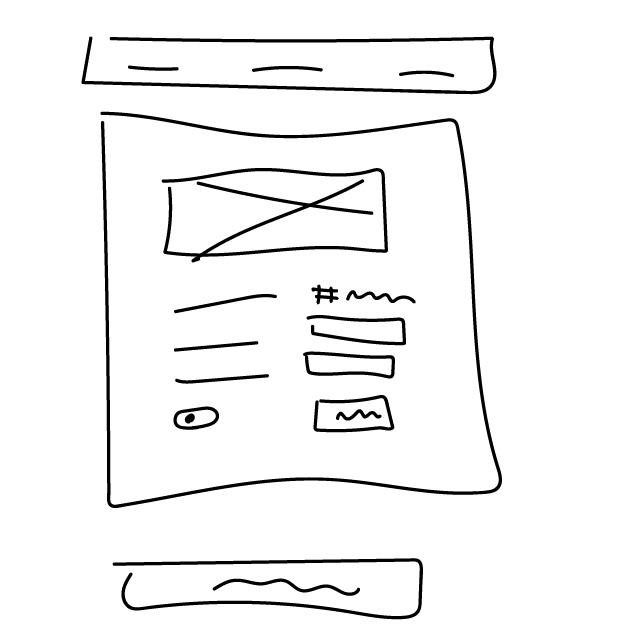buttonrotation: (311, 393, 401, 438)
checkboxrotation: (172, 406, 226, 432)
containerrotation: (86, 106, 512, 521)
footerrotation: (105, 553, 443, 626)
framerotation: (157, 164, 397, 266)
headingrotation: (309, 279, 417, 313)
inputrotation: (305, 311, 410, 348), (302, 349, 401, 384)
navrotation: (78, 27, 502, 103)
textrotation: (168, 288, 286, 393)
